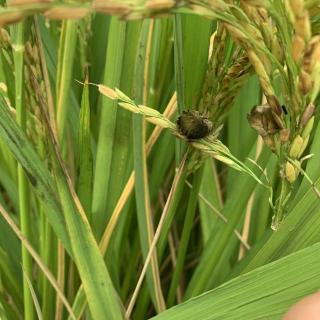Gosong-Palsu: (246, 101, 284, 139), (176, 108, 214, 142)
